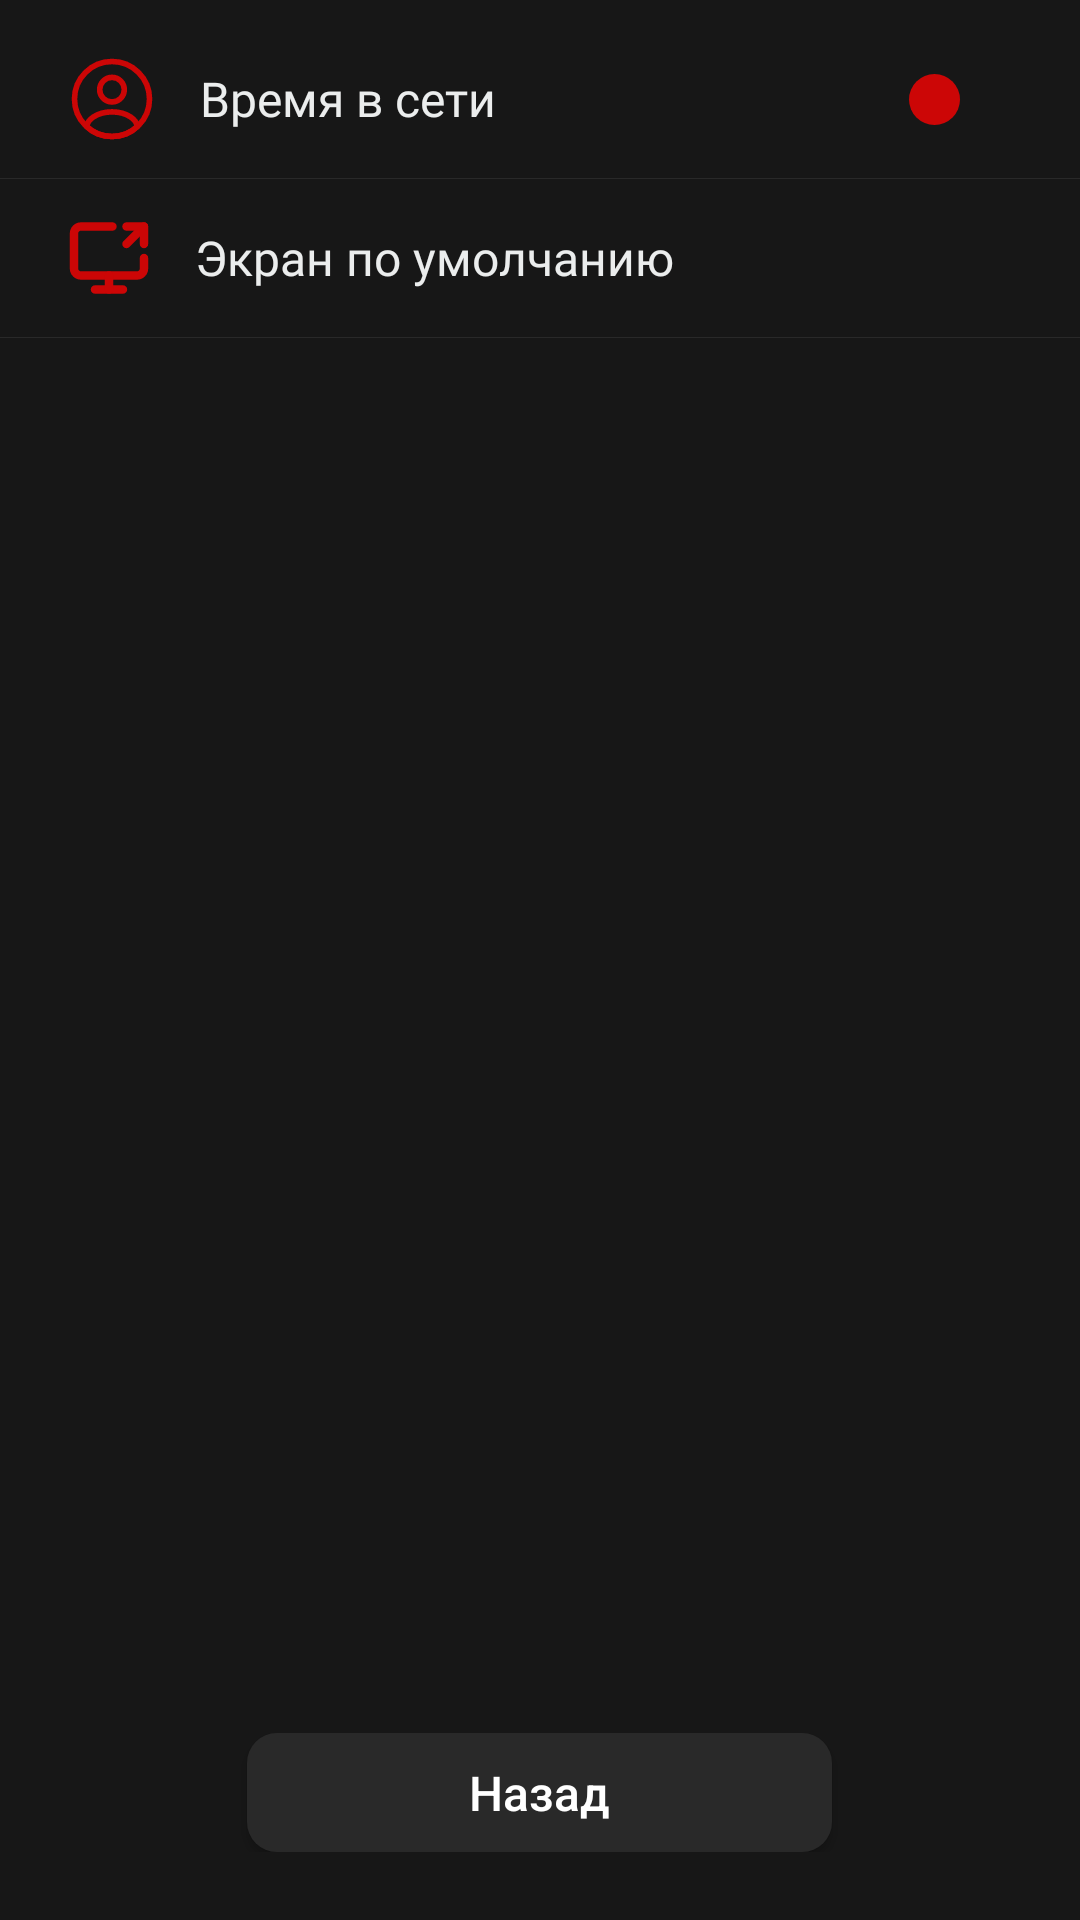

Icons on this 1080 x 1920 Android screen, each with the point to tap as [x,y]:
def screen: [109,258]
profile: [112,99]
